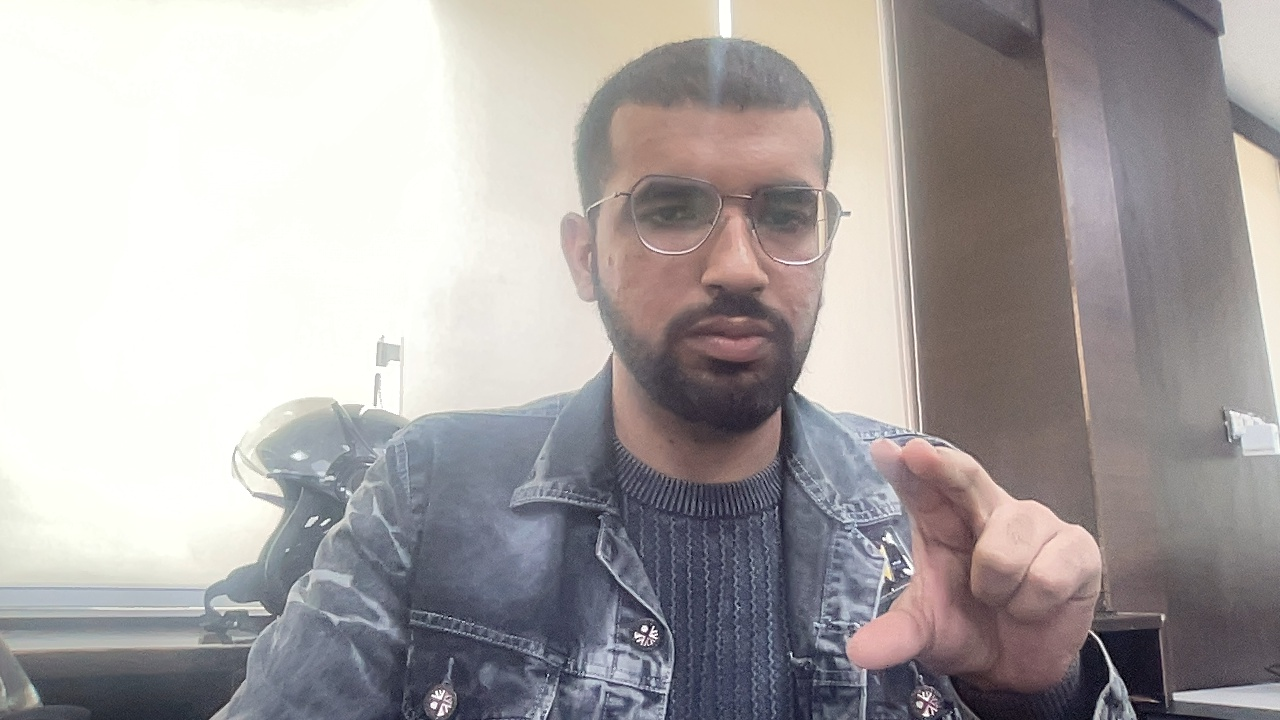No: (804, 432, 1119, 720)
